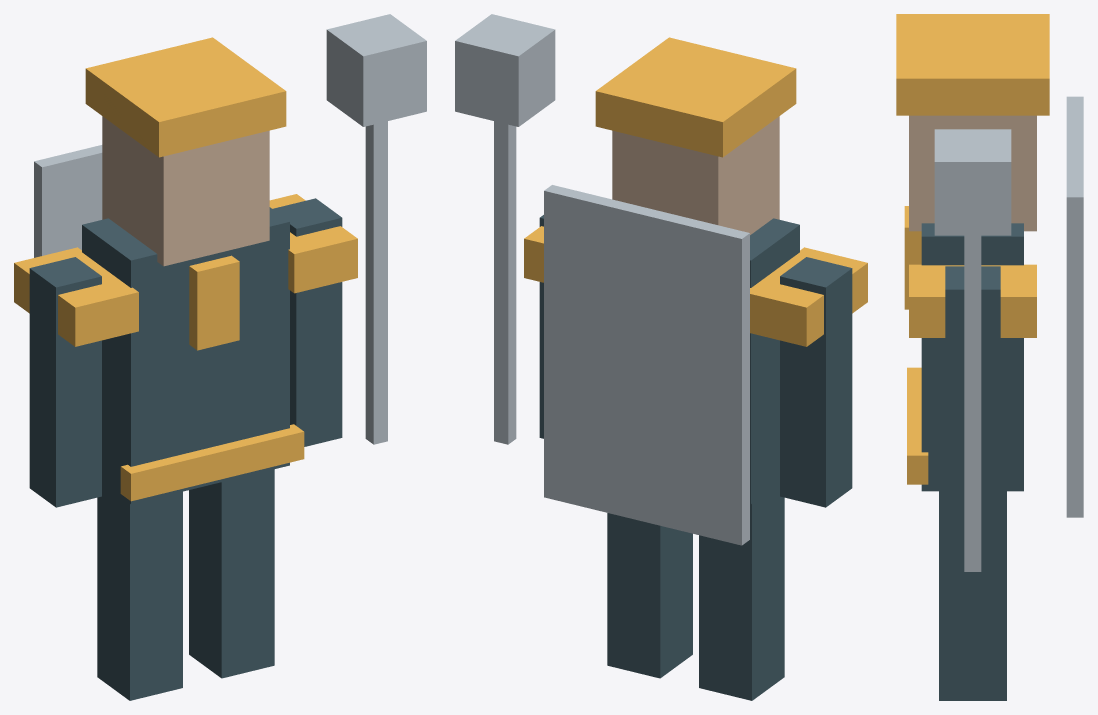
Rendered from 03_bryn_cragwarden_watcher_of_isolation.glb.
The picture shows the model from 3 angles, left to right: view 1: azimuth 30°, elevation 25°; view 2: azimuth 150°, elevation 25°; view 3: azimuth 270°, elevation 25°; orthographic projection. The views are drawn at different scales.
Parts seen in each view (by area): view 1: Bryn Cragwarden, Watcher of Isolation; view 2: Bryn Cragwarden, Watcher of Isolation; view 3: Bryn Cragwarden, Watcher of Isolation.
Boxes of the visible parts, left/top/right/bottom form: Bryn Cragwarden, Watcher of Isolation: left=14, top=14, right=426, bottom=700; Bryn Cragwarden, Watcher of Isolation: left=455, top=14, right=867, bottom=700; Bryn Cragwarden, Watcher of Isolation: left=896, top=14, right=1083, bottom=700.
Bounding box in the file's own units: 0.9771 × 1.51 × 0.4154.
